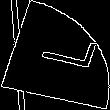L_W: (20, 32, 90, 78)
